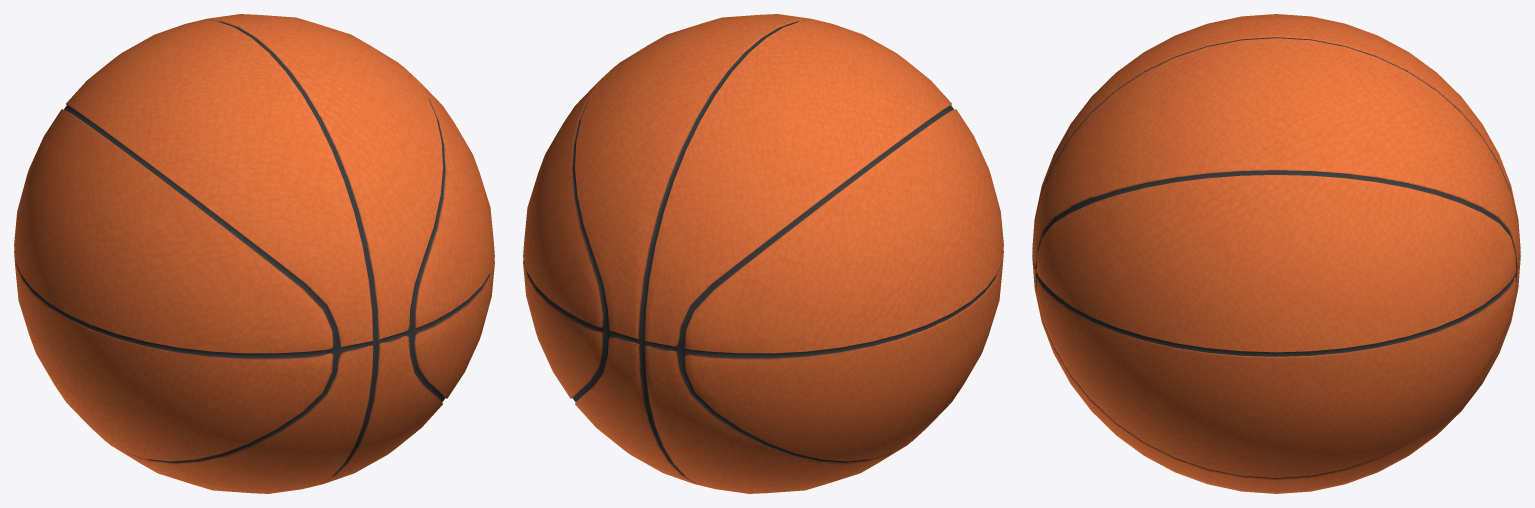
Rendered from BasketBall.fbx.
The picture shows the model from 3 angles, left to right: view 1: azimuth 30°, elevation 25°; view 2: azimuth 150°, elevation 25°; view 3: azimuth 270°, elevation 25°; orthographic projection.
Parts seen in each view (by area): view 1: BasketBall; view 2: BasketBall; view 3: BasketBall.
Part boxes in pixels (bbox=[...]): BasketBall: bbox=[14, 14, 494, 493]; BasketBall: bbox=[523, 14, 1003, 493]; BasketBall: bbox=[1032, 14, 1520, 493].
Bounding box in the file's own units: 25.97 × 25.97 × 26.44.
